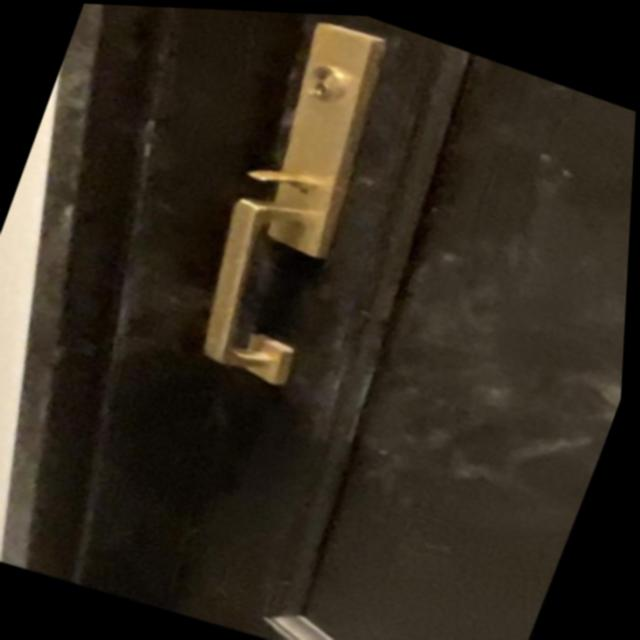door_handle: (130, 157, 397, 427)
